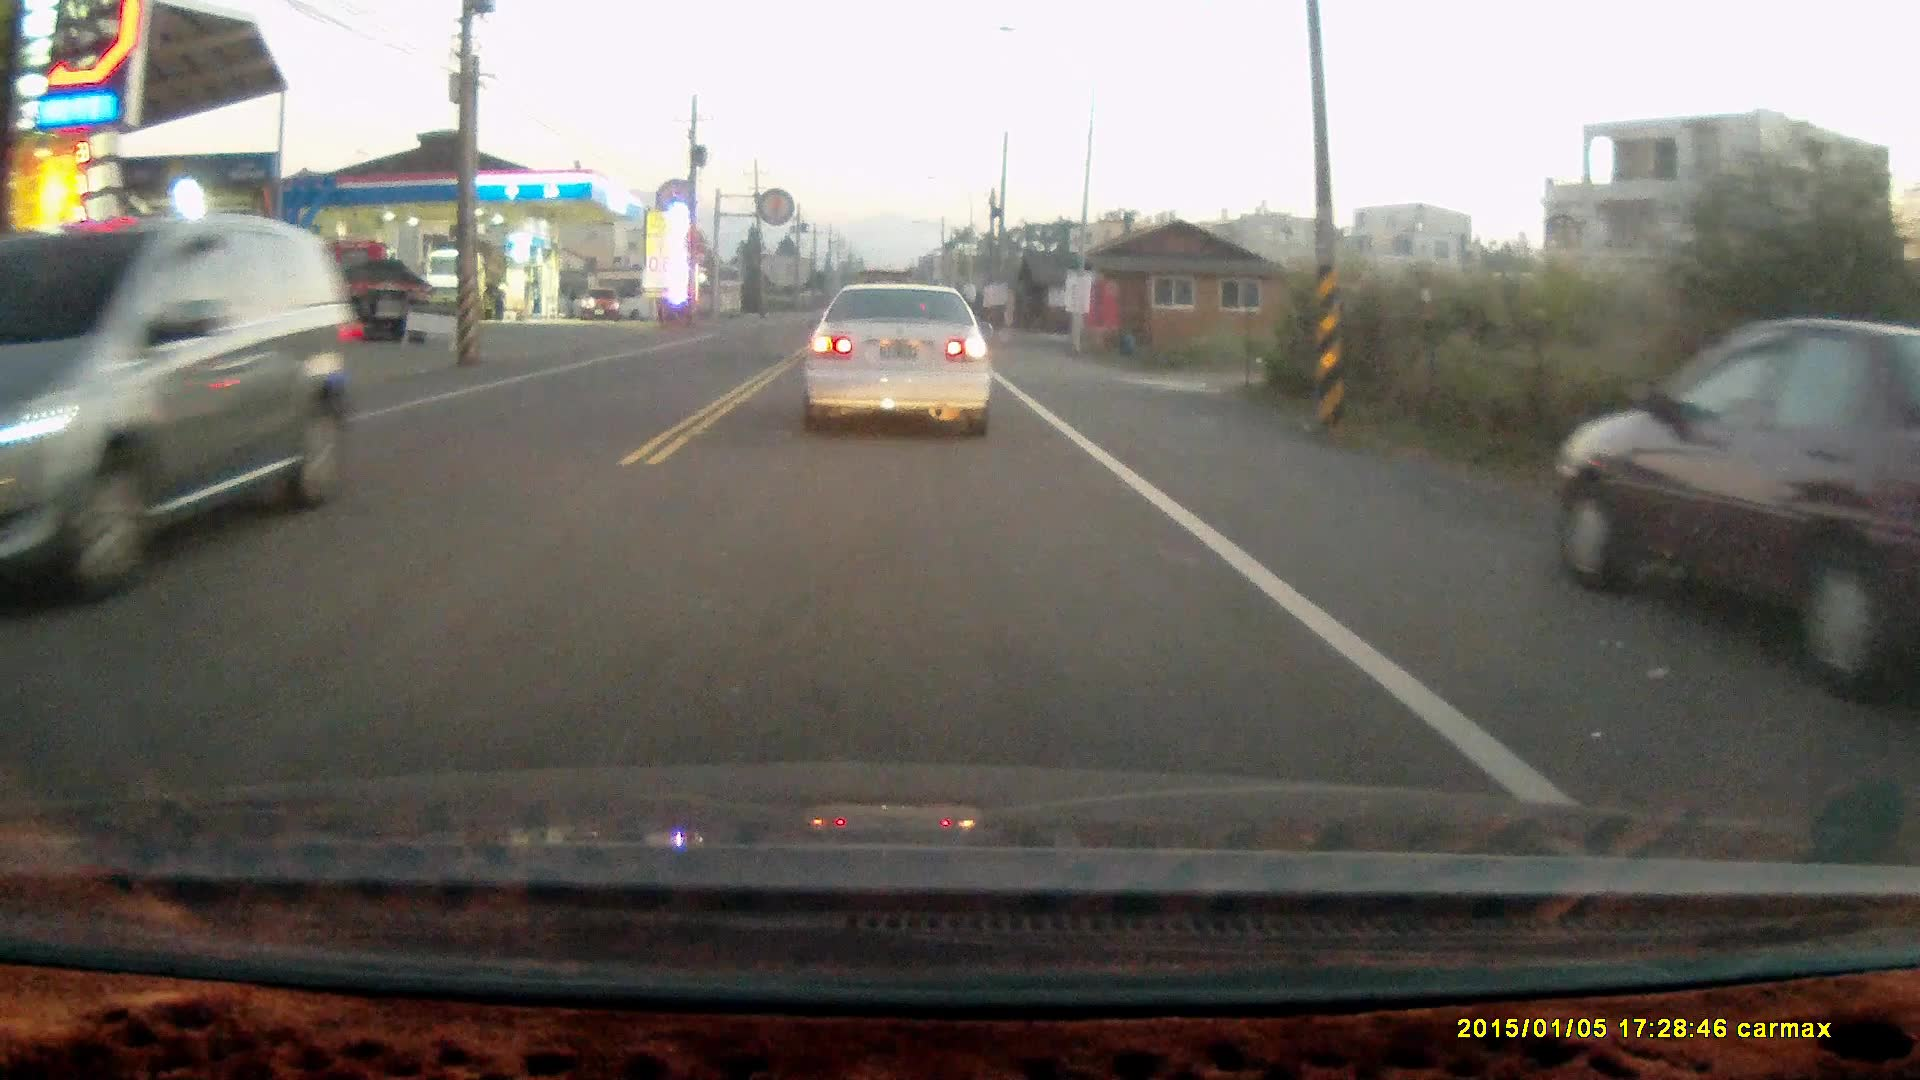pedestrian: (490, 277, 510, 320)
vehicle: (1554, 315, 1920, 723), (1, 216, 364, 607), (796, 279, 995, 439), (414, 236, 494, 319), (581, 288, 622, 323)
